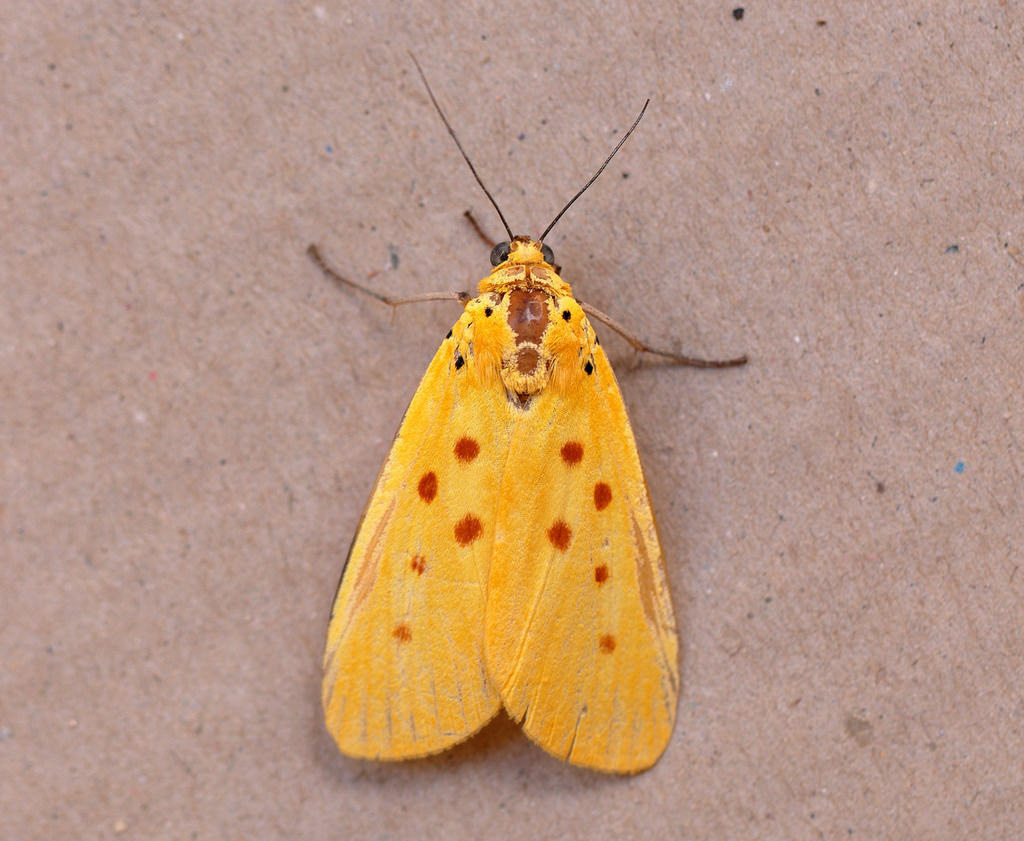Agape chloropyga: (294, 42, 750, 776)
moth: (296, 44, 752, 778)
